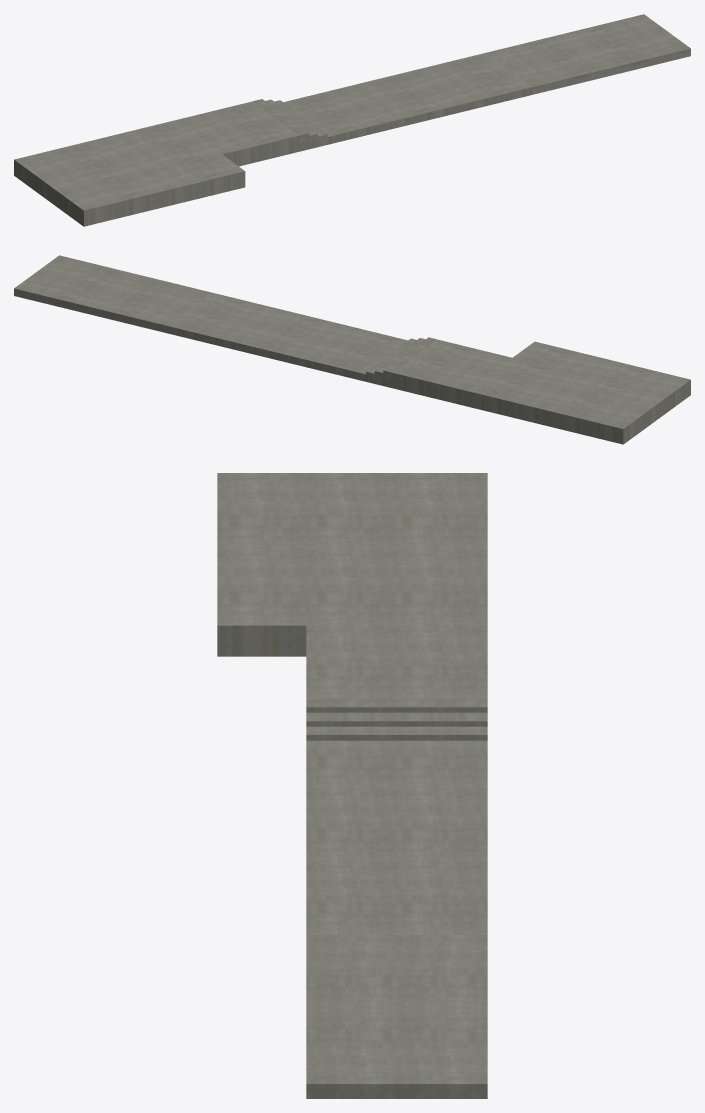
The model's file is SM_Gyedong_Floor_03A.fbx.
The picture shows the model from 3 angles, top to bottom: view 1: azimuth 30°, elevation 25°; view 2: azimuth 150°, elevation 25°; view 3: azimuth 270°, elevation 25°; orthographic projection. The views are drawn at different scales.
Visible parts, largest first — view 1: SM_Gyedong_Floor_03A; view 2: SM_Gyedong_Floor_03A; view 3: SM_Gyedong_Floor_03A.
Boxes of the visible parts, x1,y1,x2,y2 form: SM_Gyedong_Floor_03A: (14, 14, 690, 226); SM_Gyedong_Floor_03A: (14, 255, 690, 444); SM_Gyedong_Floor_03A: (217, 473, 487, 1098).
Bounding box in the file's own units: 1732 × 42.48 × 333.
